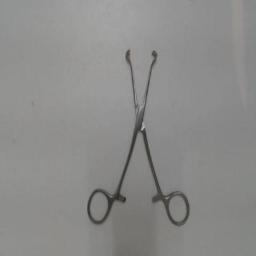Babcock Tissue Forceps: (85, 44, 195, 232)
